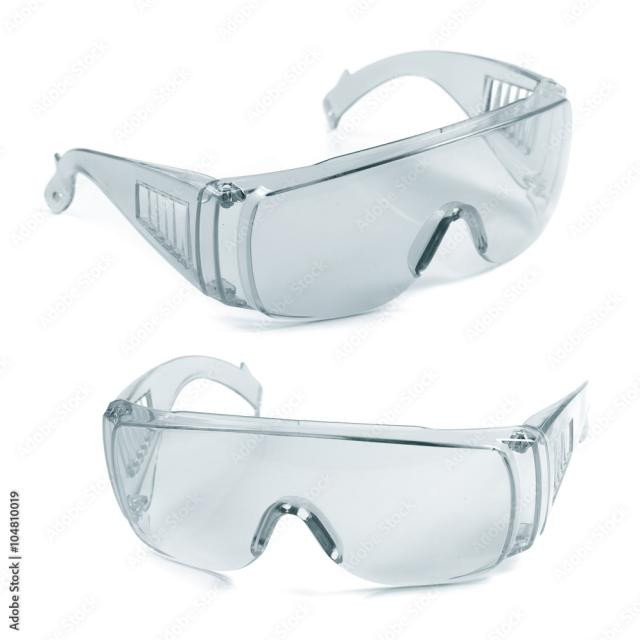Goggles: (43, 42, 585, 324), (83, 347, 602, 603)
